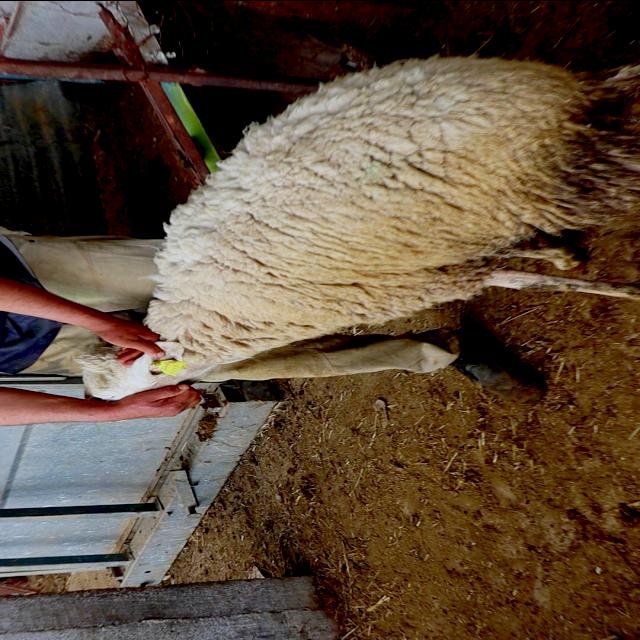Score_3: (74, 56, 639, 399)
